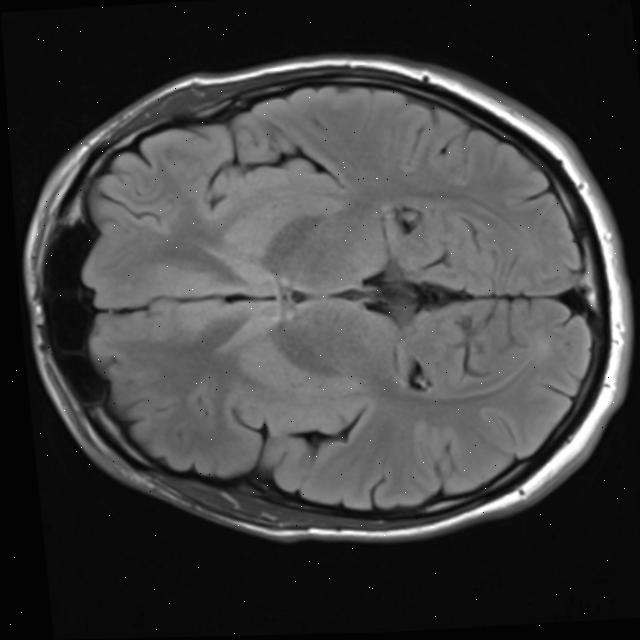NoTumor: (3, 38, 640, 559)
